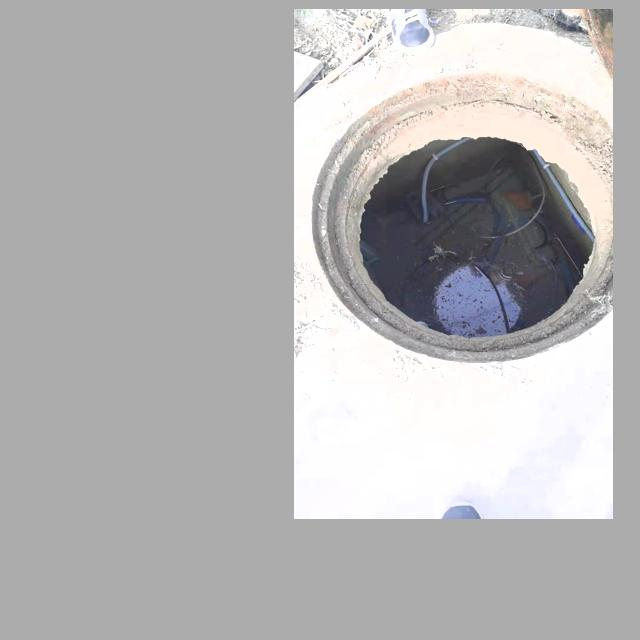lose: (313, 69, 610, 366)
